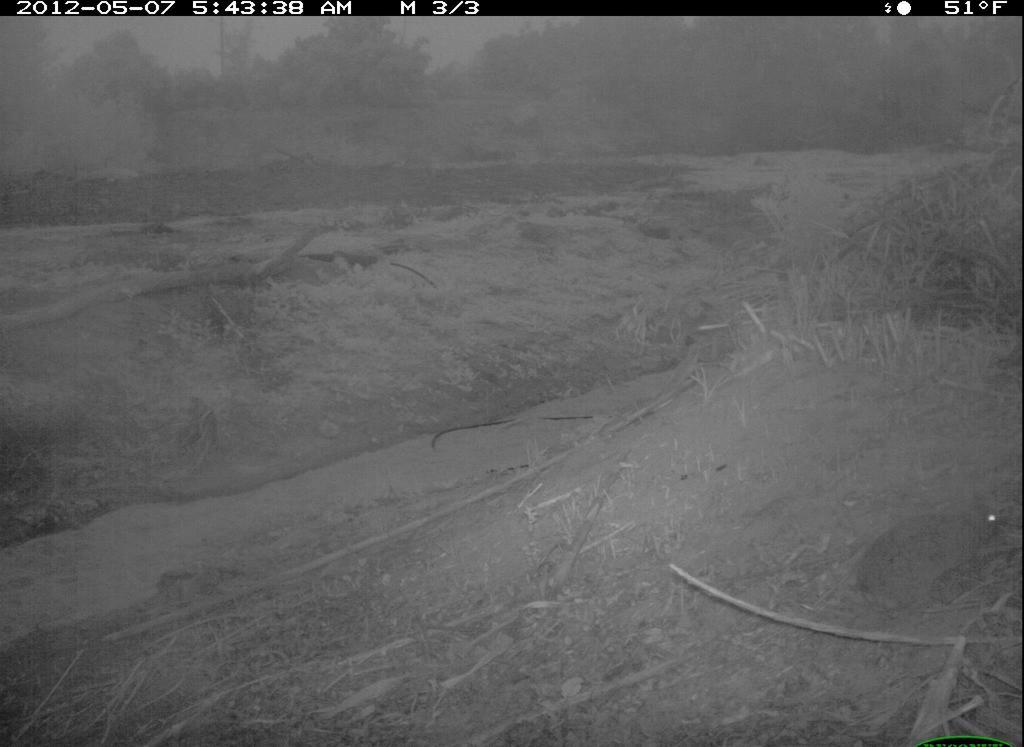rabbit: (849, 479, 1022, 641)
